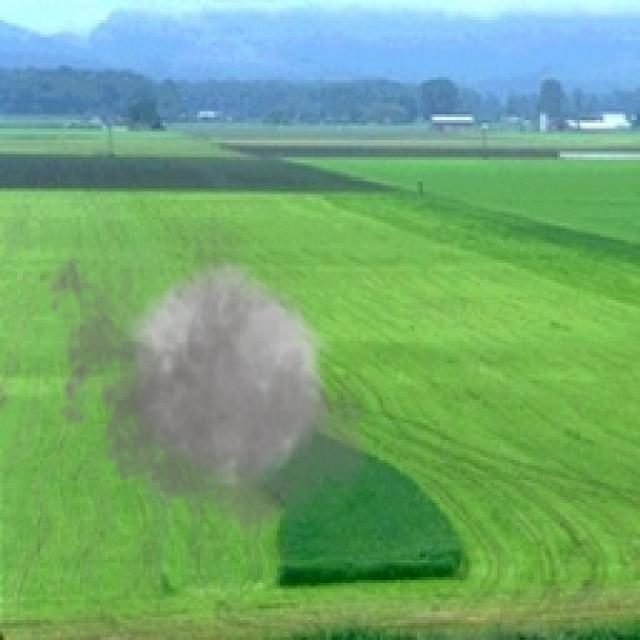Smoke: (37, 197, 380, 554)
